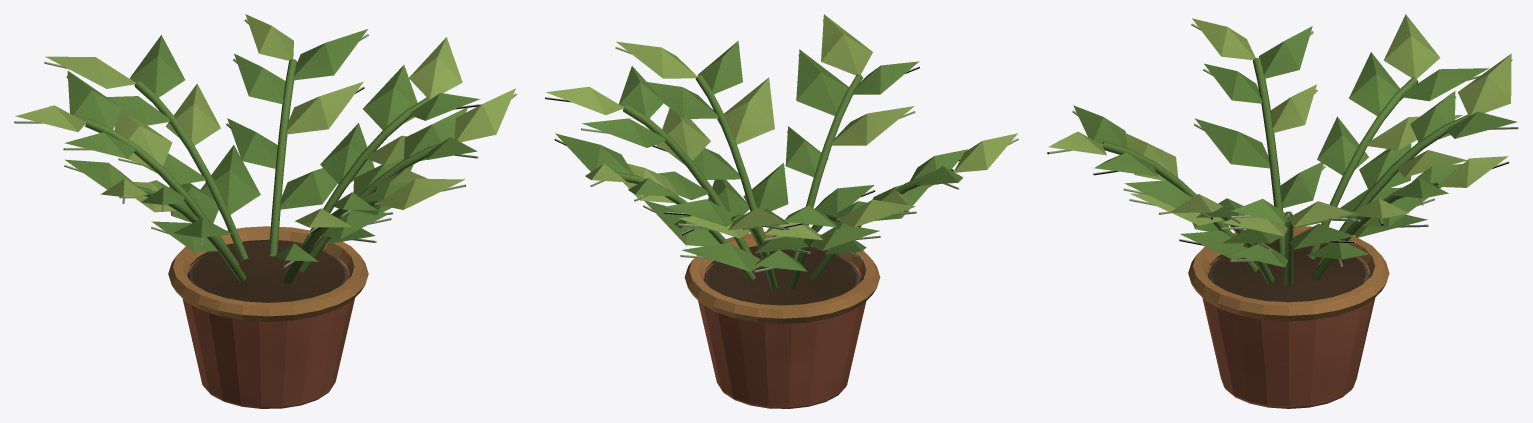
The model's file is 27_Window_Plant.fbx.
The picture shows the model from 3 angles, left to right: view 1: azimuth 30°, elevation 25°; view 2: azimuth 150°, elevation 25°; view 3: azimuth 270°, elevation 25°; orthographic projection. The views are drawn at different scales.
Visible parts, largest first — view 1: 27_Window_Plant; view 2: 27_Window_Plant; view 3: 27_Window_Plant.
Part boxes in pixels (bbox=[...]): 27_Window_Plant: bbox=[14, 14, 516, 408]; 27_Window_Plant: bbox=[545, 14, 1018, 408]; 27_Window_Plant: bbox=[1047, 14, 1518, 408].
Bounding box in the file's own units: 98.42 × 62.85 × 98.32.
1 material, 1 textured.
